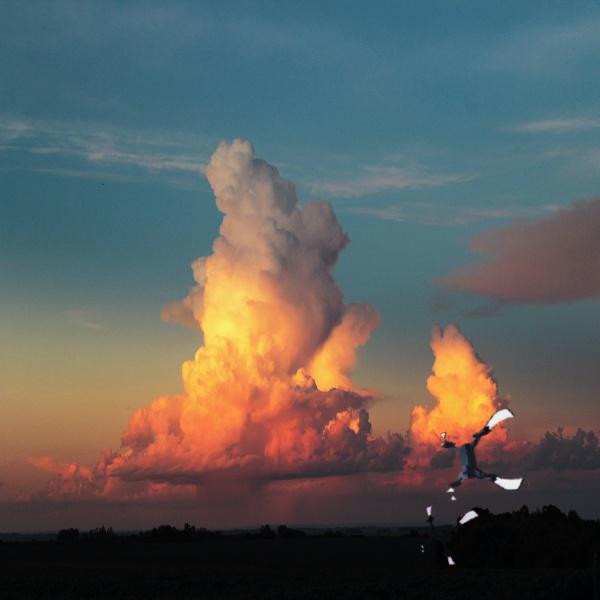drone: (434, 410, 528, 504), (414, 497, 487, 570)
